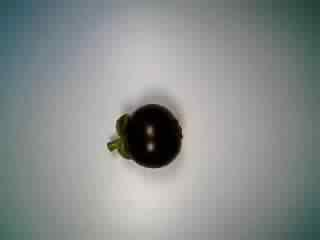mangosteen: (105, 96, 184, 176)
